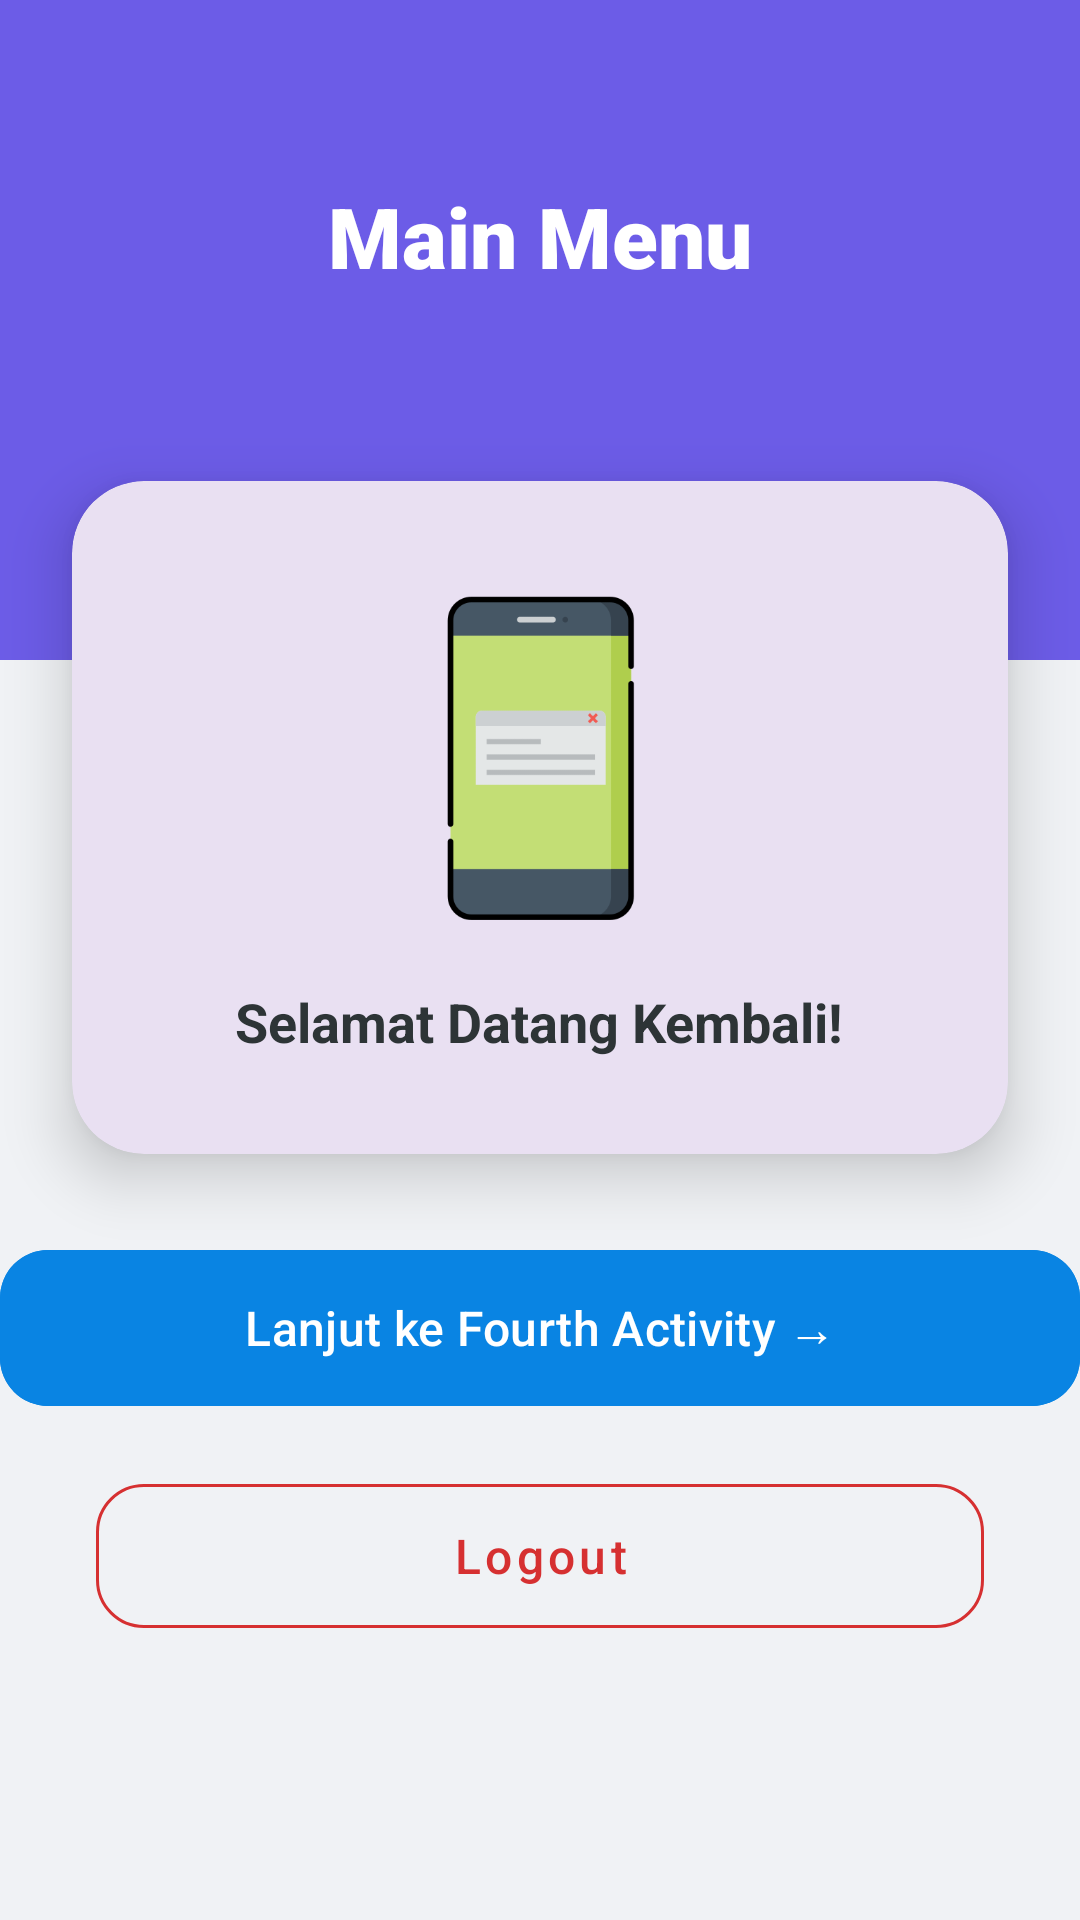

Screen size 1080px×1920px. Icon name, then its center in pixels as point (x, y):
handphone: point (540, 758)
